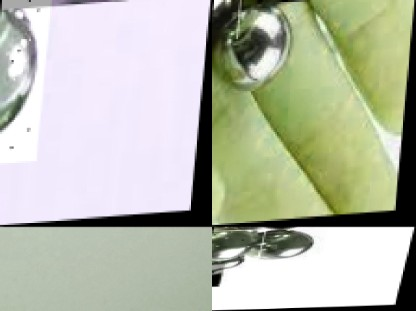ironball: (212, 4, 298, 103), (0, 0, 50, 165), (243, 230, 322, 267), (212, 230, 265, 262), (0, 0, 129, 10), (212, 0, 239, 41), (241, 0, 321, 6), (212, 265, 225, 287), (224, 227, 297, 230), (212, 227, 219, 228)
